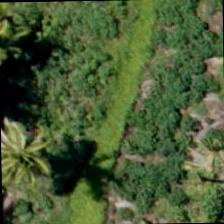Kelapa_Sawit: (0, 113, 66, 204)
